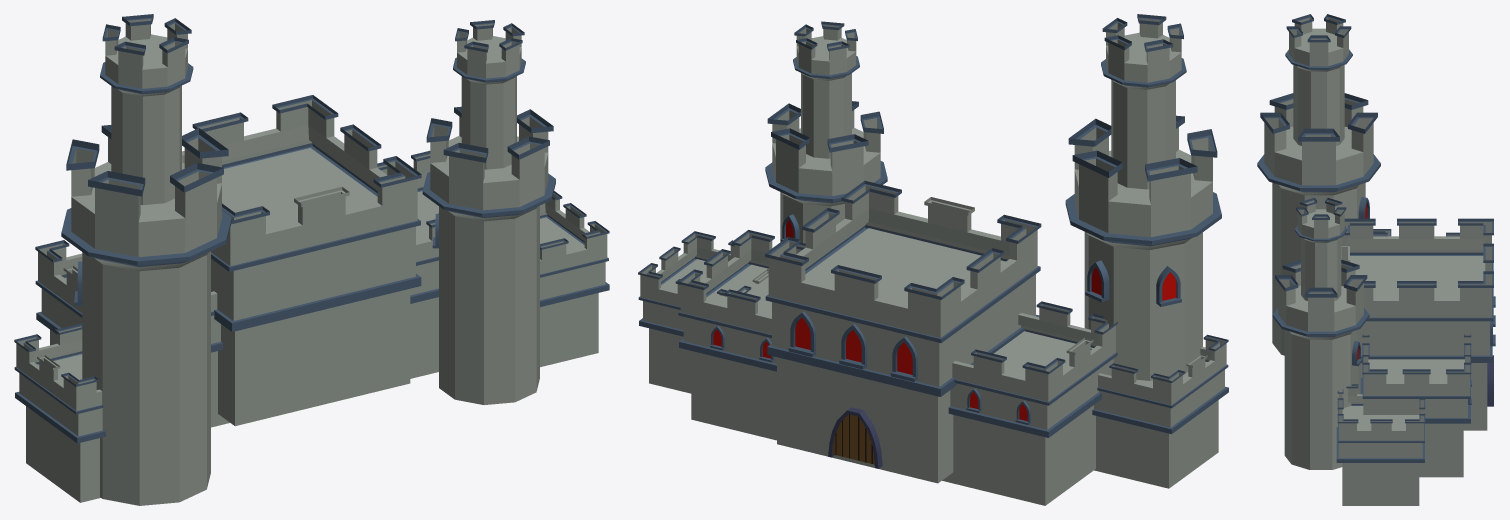
File: Castle.fbx
3 renders of one model, left to right at view 1: azimuth 30°, elevation 25°; view 2: azimuth 150°, elevation 25°; view 3: azimuth 270°, elevation 25°, orthographic. The views are drawn at different scales.
Parts seen in each view (by area): view 1: Castle; view 2: Castle; view 3: Castle.
Part boxes in pixels (left/top/right/bottom): Castle: left=14, top=14, right=609, bottom=505; Castle: left=638, top=14, right=1228, bottom=505; Castle: left=1257, top=14, right=1495, bottom=505.
Bounding box in the file's own units: 61.77 × 47.23 × 32.25.
